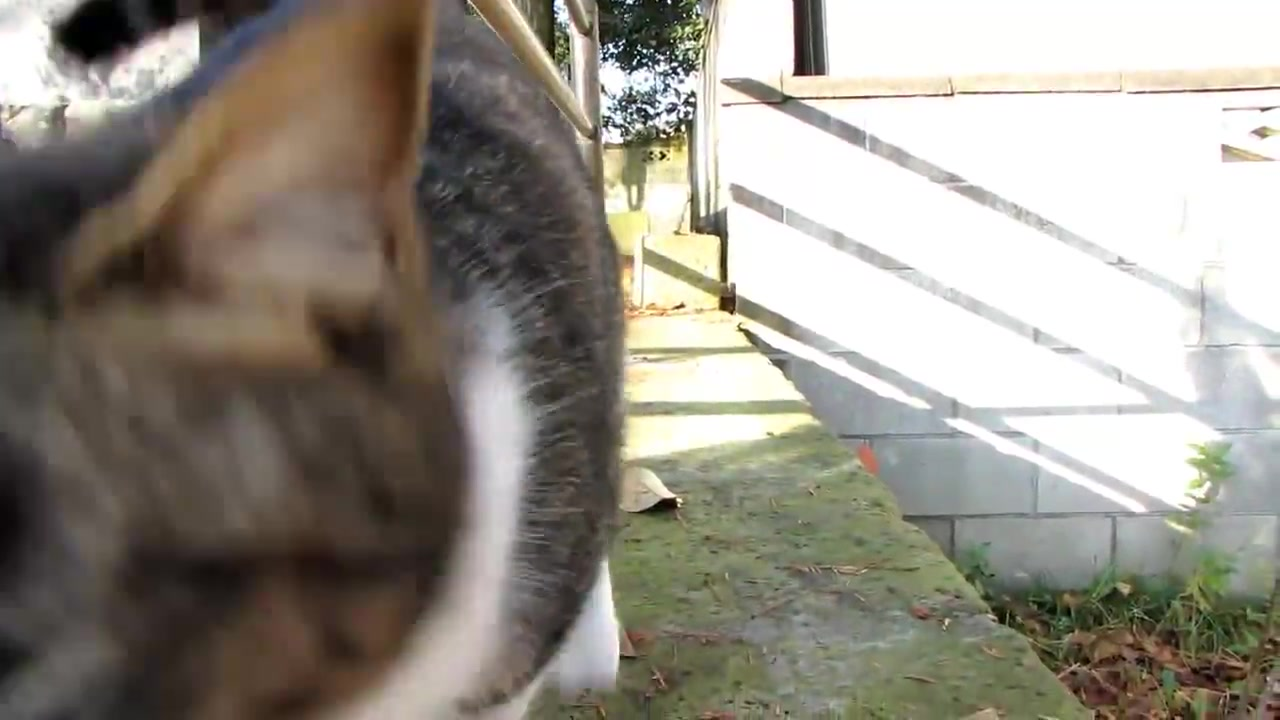cat: (1, 1, 633, 720)
